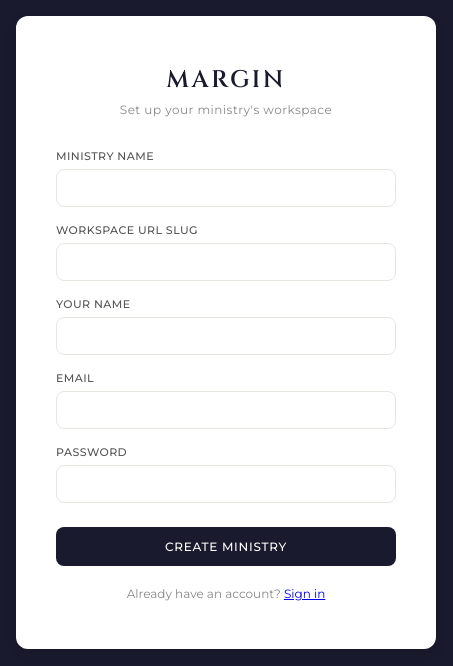
Test: slugifies the ministry name into a workspace URL as the admin types
Type "Grace & Fire Ministries" into the field below "Ministry name" at (226, 188), box [56,168,396,206]
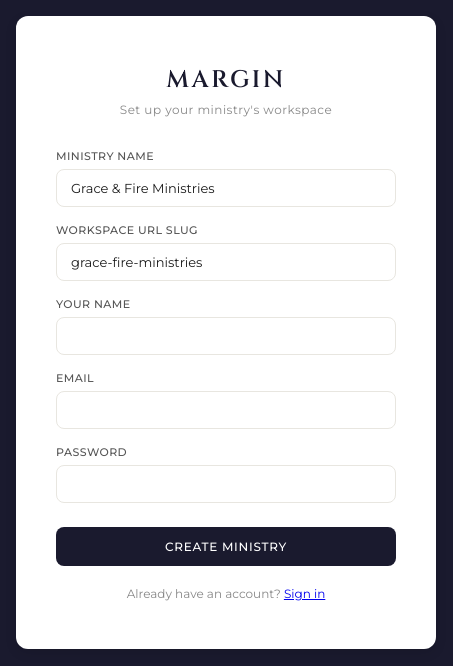
Expected: the field below "Workspace URL slug" holds "grace-fire-ministries", [56,242,396,280]
